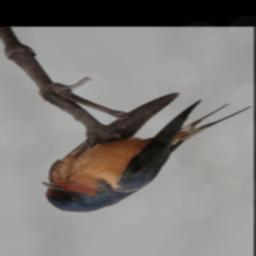Swallow: (40, 93, 249, 214)
